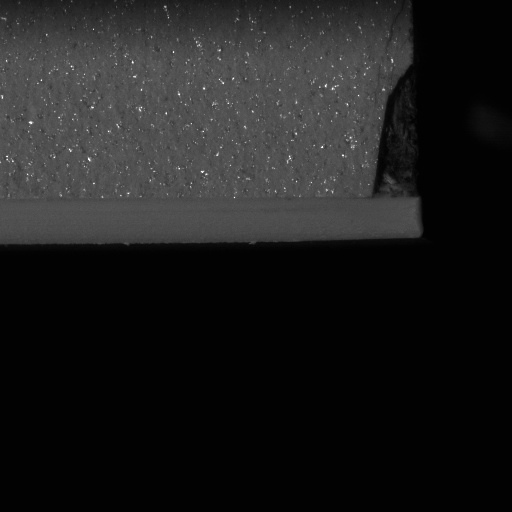bengque: (371, 70, 422, 203)
